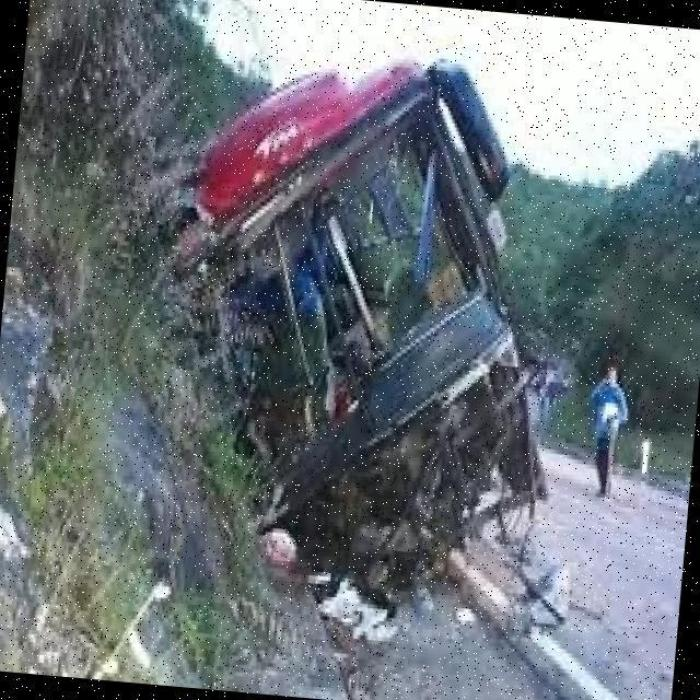Accident: (124, 31, 598, 624)
